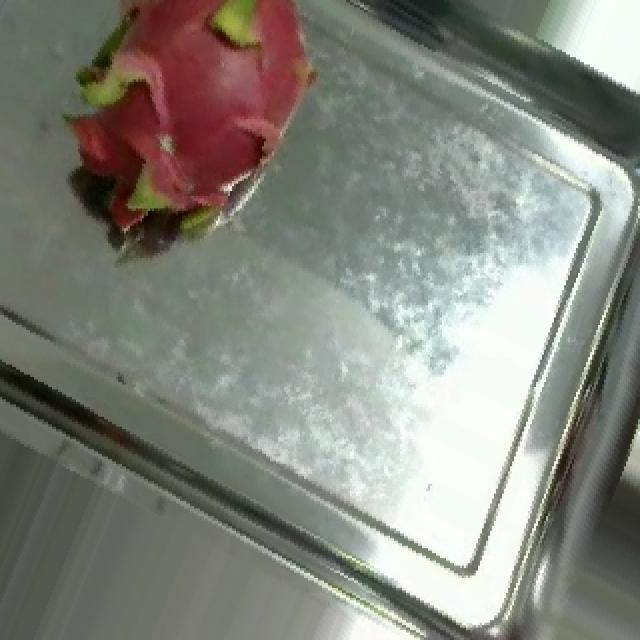fruit: (2, 0, 390, 303)
